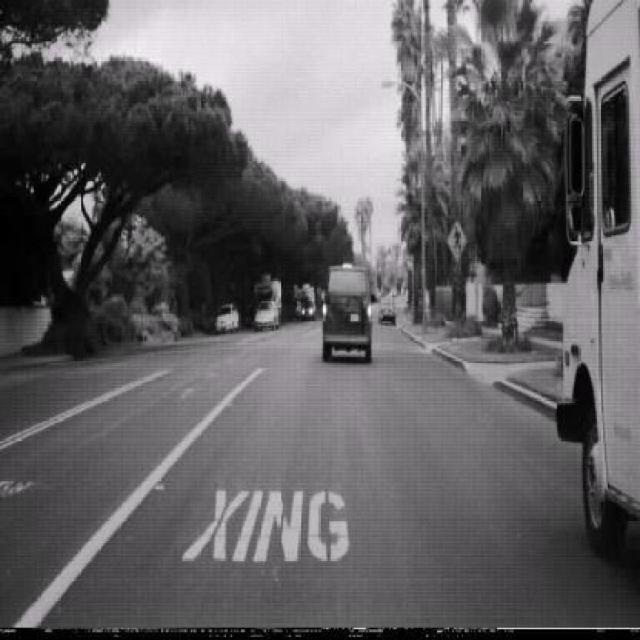pedestrianCrossing: (446, 218, 469, 262)
